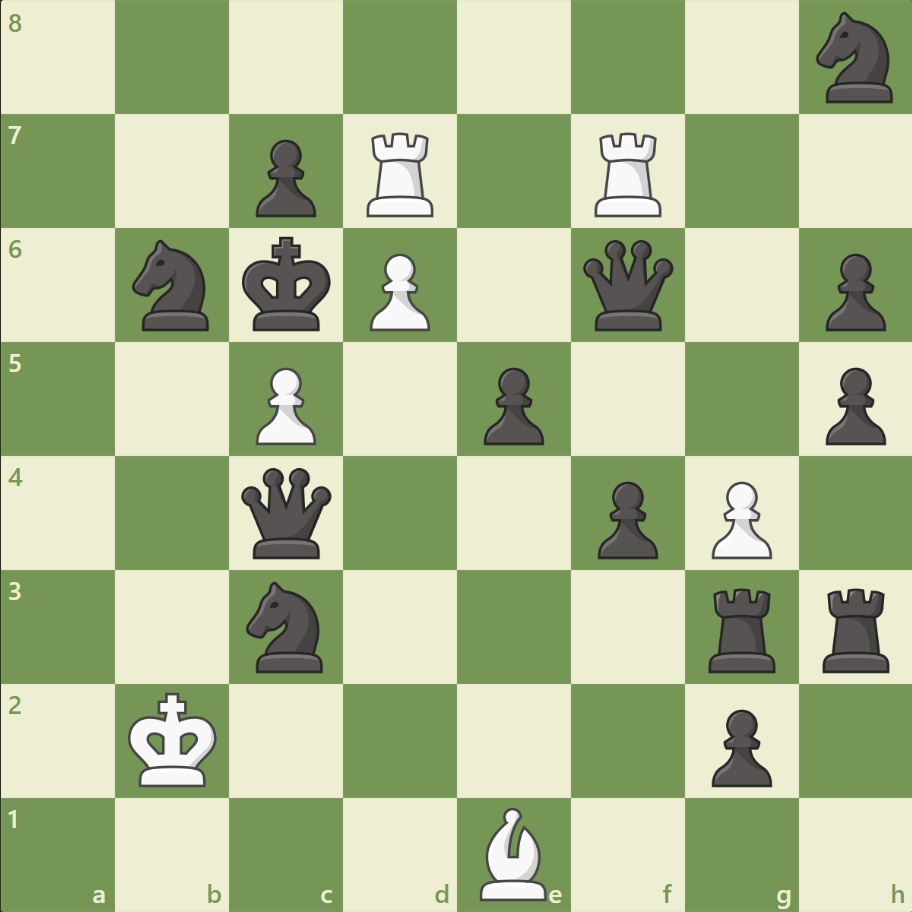B: (471, 801, 555, 904)
K: (124, 685, 224, 793)
P: (247, 359, 322, 450), (701, 473, 776, 564), (361, 246, 435, 337)
R: (587, 125, 670, 222), (360, 125, 442, 222)
k: (238, 231, 338, 339)
n: (124, 234, 222, 337), (806, 7, 903, 110), (238, 575, 335, 677)
p: (247, 132, 322, 223), (474, 359, 549, 450), (701, 700, 776, 791), (815, 246, 889, 337), (815, 359, 889, 450), (588, 473, 662, 564)
q: (578, 236, 677, 335), (237, 463, 336, 562)
r: (700, 579, 783, 676), (814, 579, 897, 676)
